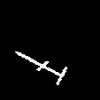double_crochet: (16, 52, 66, 84)
